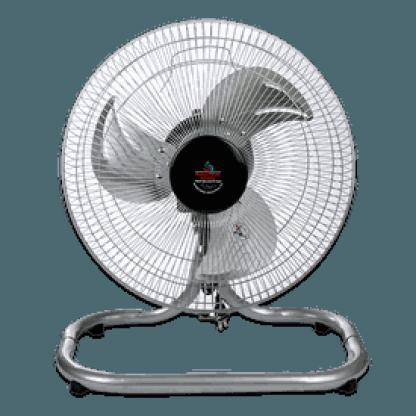fan: (52, 10, 387, 405)
